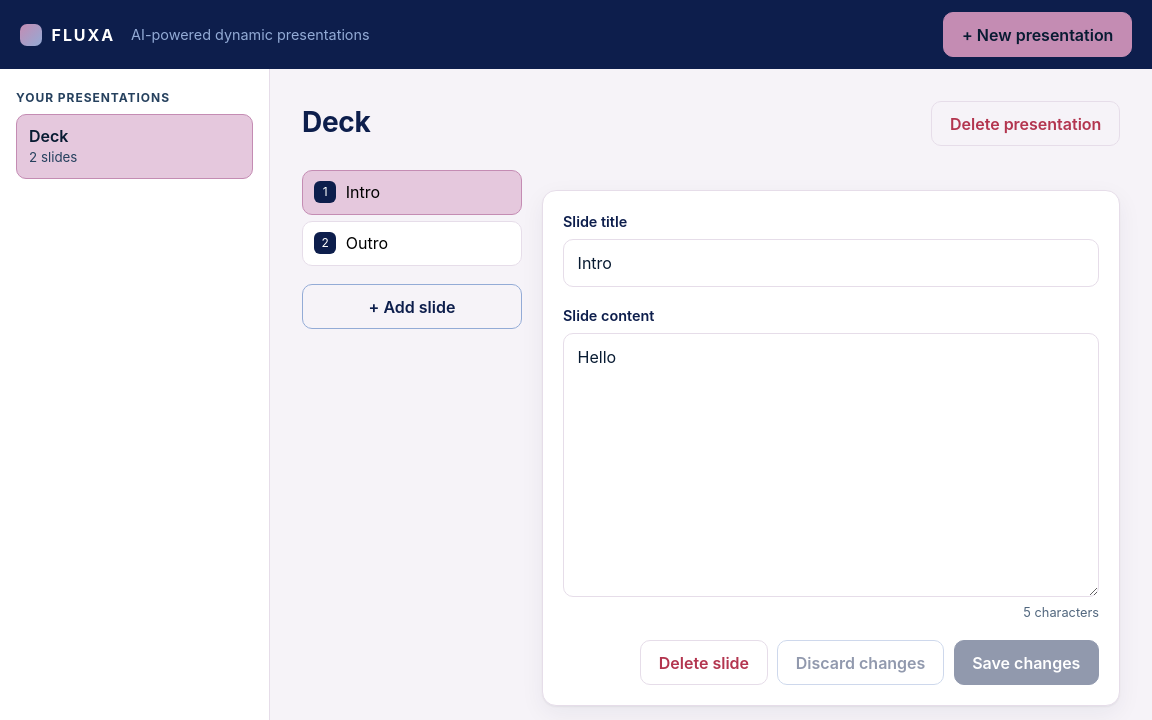
switching slides keeps unsaved edits
In the field labelled "Slide title": (831, 263) top-left (563, 239), bottom-right (1099, 287), type "!"
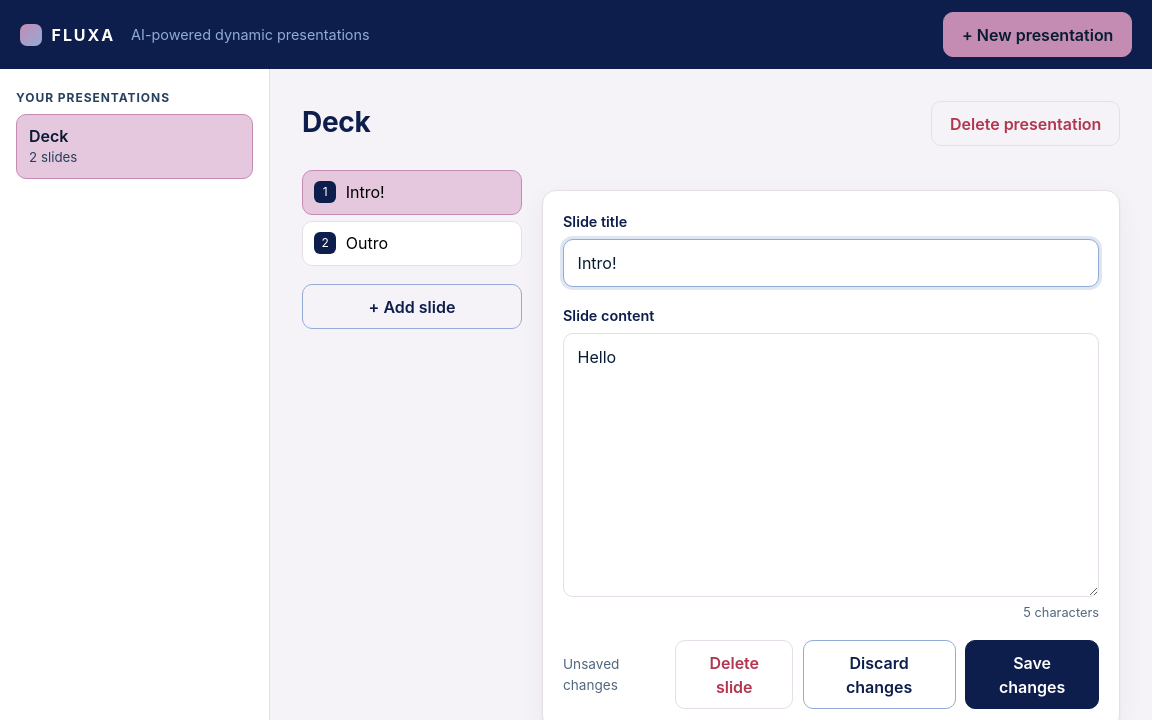
Click the button "2 Outro": (412, 243) top-left (302, 221), bottom-right (522, 266)
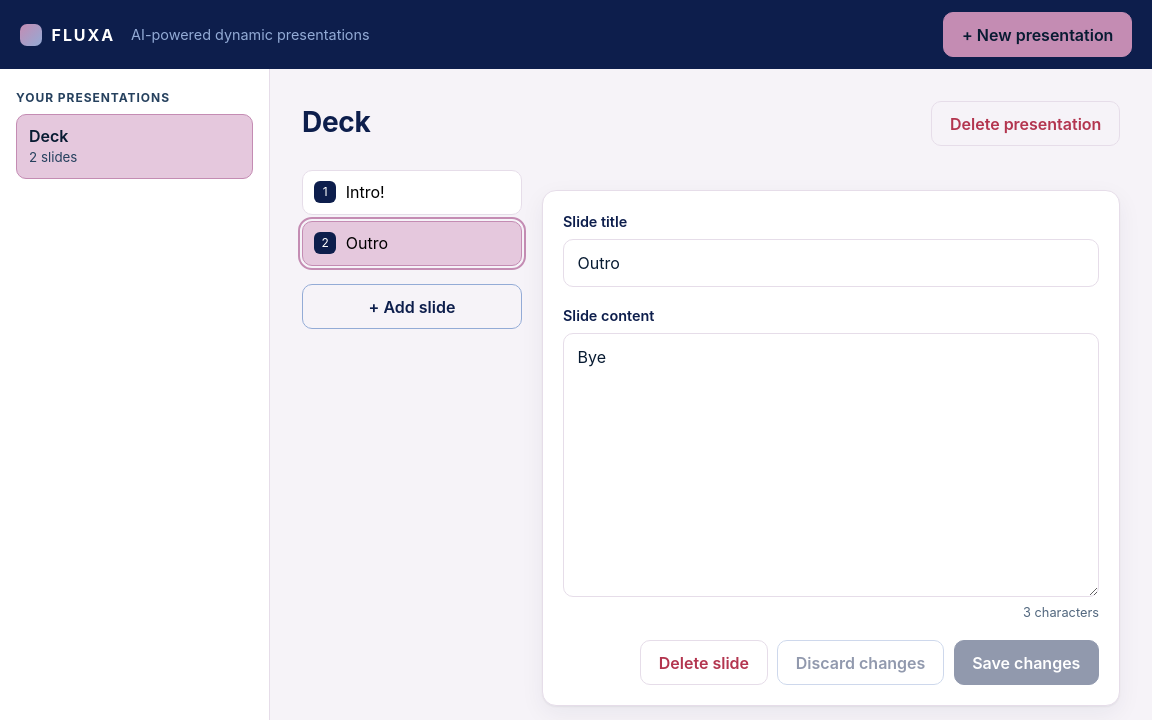
Check: the field labelled "Slide title" holds "Outro", box top-left (563, 239), bottom-right (1099, 287)
Click the button "1 Intro!": (412, 192) top-left (302, 170), bottom-right (522, 215)
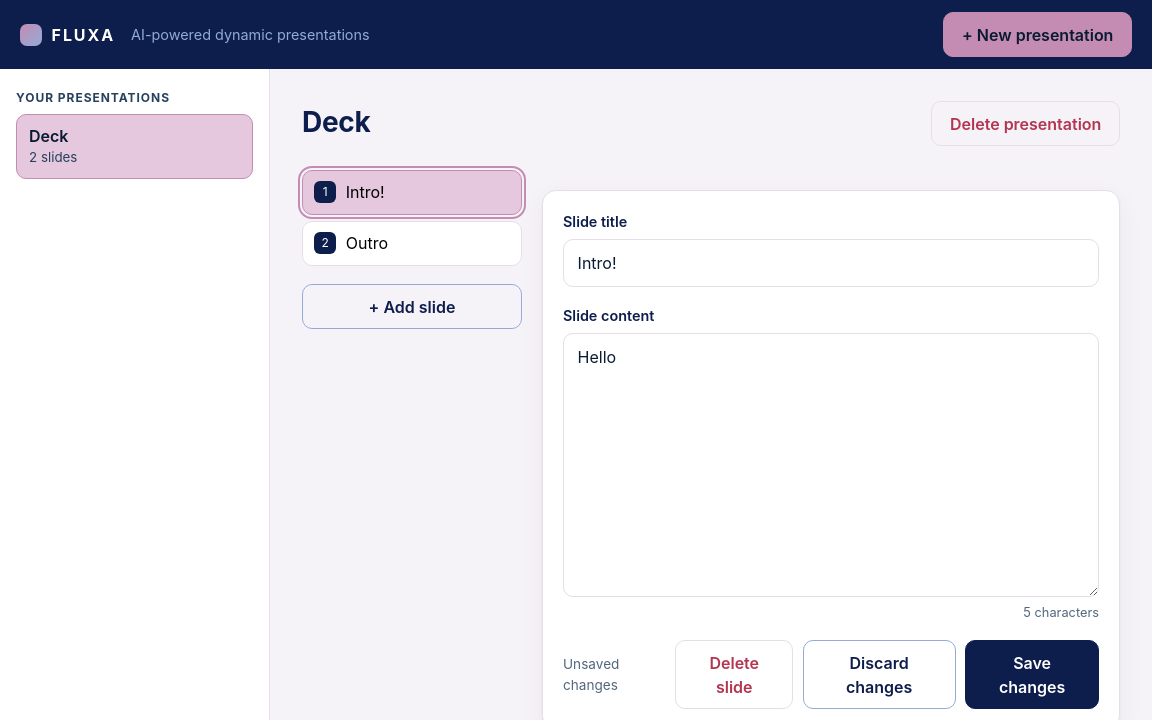
Check: the field labelled "Slide title" holds "Intro!", box top-left (563, 239), bottom-right (1099, 287)
